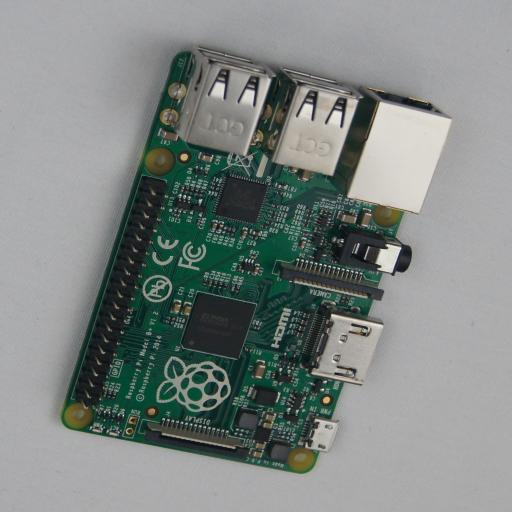Raspberry Pi 1 B-: (60, 46, 442, 474)
